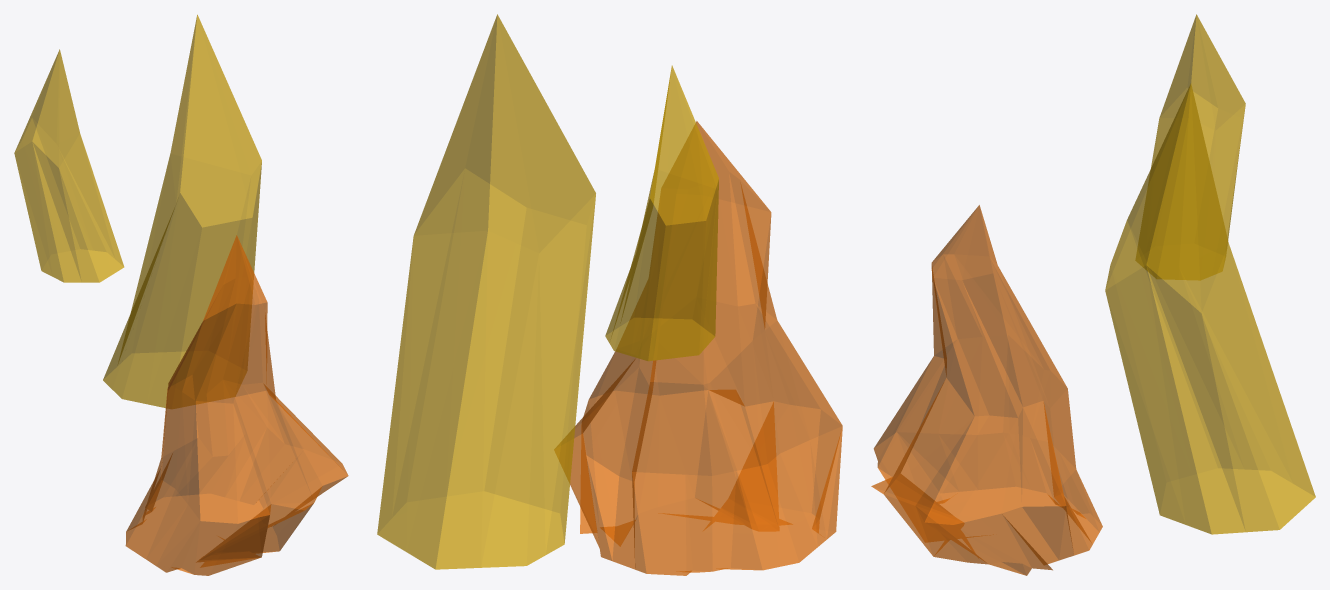
Rendered from fireSec2.dae.
3 renders of one model, left to right at view 1: azimuth 30°, elevation 25°; view 2: azimuth 150°, elevation 25°; view 3: azimuth 270°, elevation 25°, orthographic. The views are drawn at different scales.
Visible parts, largest first — view 1: dFlame2, yFlame2, yFlame3; view 2: yFlame2, dFlame2, yFlame3; view 3: yFlame2, dFlame2, yFlame3.
Boxes of the visible parts, x1=… form: dFlame2: x1=125, y1=235, x2=348, y2=575; yFlame2: x1=103, y1=14, x2=261, y2=408; yFlame3: x1=14, y1=49, x2=124, y2=282; yFlame2: x1=377, y1=14, x2=595, y2=569; dFlame2: x1=554, y1=121, x2=842, y2=575; yFlame3: x1=605, y1=65, x2=718, y2=361; yFlame2: x1=1105, y1=83, x2=1315, y2=534; dFlame2: x1=871, y1=205, x2=1102, y2=575; yFlame3: x1=1136, y1=14, x2=1245, y2=279.
Bounding box in the file's own units: 0.7859 × 1.19 × 1.48.
